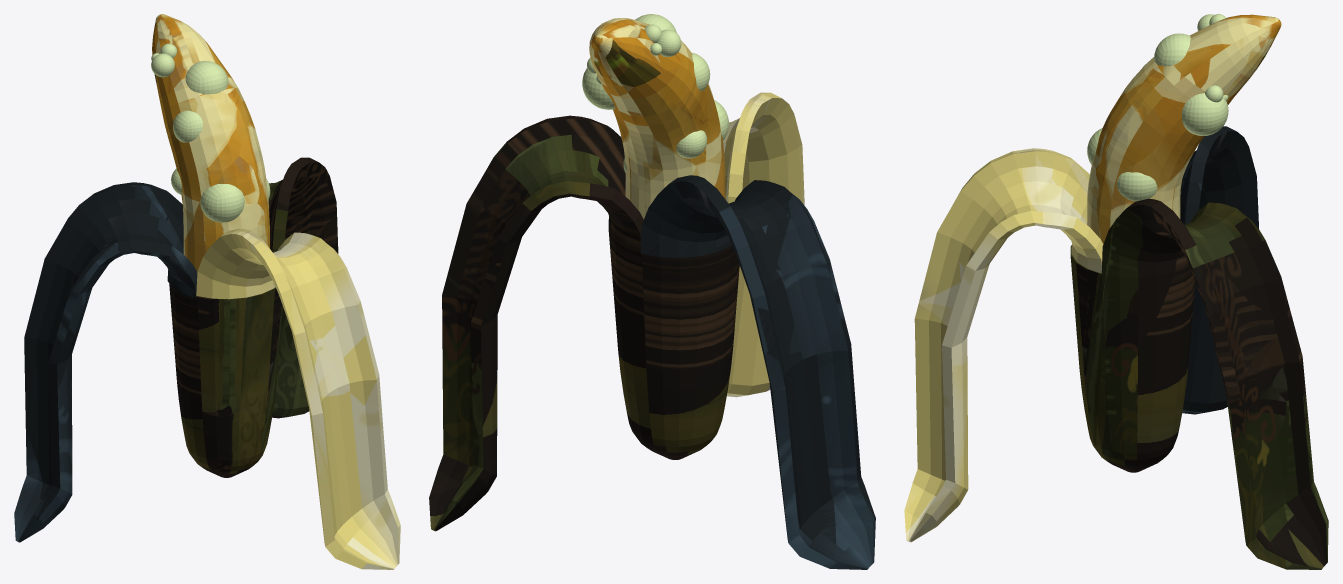
Rendered from banana_vilainFIX.fbx.
The picture shows the model from 3 angles, left to right: view 1: azimuth 30°, elevation 25°; view 2: azimuth 150°, elevation 25°; view 3: azimuth 270°, elevation 25°; orthographic projection. The views are drawn at different scales.
Parts seen in each view (by area): view 1: BananaPeel2, BananaPeelBottom, BananaPeel, BananaBase, Mold; view 2: BananaPeelBottom, BananaPeel, BananaBase, BananaPeel2, Mold; view 3: BananaPeelBottom, BananaPeel2, BananaBase, BananaPeel, Mold.
Boxes of the visible parts, x1,y1,x2,y2 form: BananaPeel2: (196, 228, 400, 569); BananaPeelBottom: (169, 157, 338, 477); BananaPeel: (14, 182, 197, 542); BananaBase: (152, 14, 269, 271); Mold: (151, 43, 270, 222); BananaPeelBottom: (429, 115, 739, 531); BananaPeel: (640, 175, 875, 569); BananaBase: (589, 18, 725, 219); BananaPeel2: (723, 92, 804, 397); Mold: (582, 14, 728, 172); BananaPeelBottom: (1070, 199, 1328, 569); BananaPeel2: (904, 148, 1103, 542); BananaBase: (1087, 14, 1281, 243); BananaPeel: (1180, 126, 1258, 414); Mold: (1087, 14, 1228, 204).
Bounding box in the file's own units: 1051 × 1309 × 1022.
